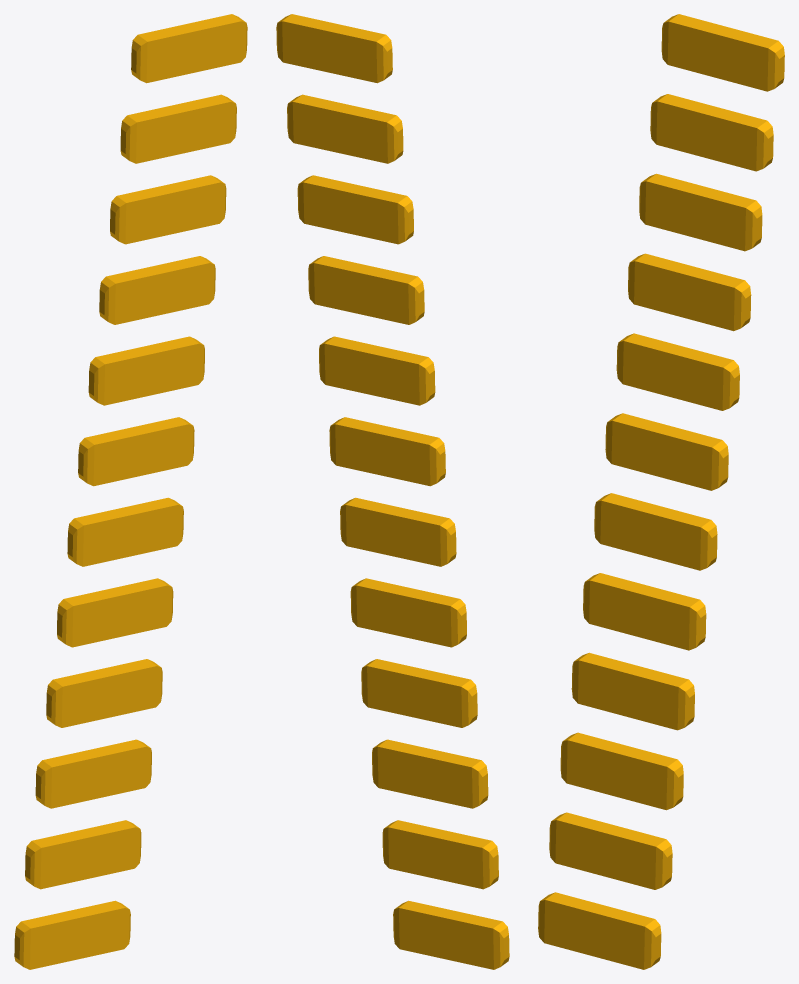
Rendered from svetla_2.obj.
The picture shows the model from 3 angles, left to right: view 1: azimuth 30°, elevation 25°; view 2: azimuth 150°, elevation 25°; view 3: azimuth 330°, elevation 25°; orthographic projection. The views are drawn at different scales.
Visible parts, largest first — view 1: Cube.045; view 2: Cube.045; view 3: Cube.045.
Boxes of the visible parts, x1,y1,x2,y2 form: Cube.045: (14, 14, 247, 969); Cube.045: (276, 14, 509, 969); Cube.045: (538, 14, 784, 969).
Size of the model in its own units: 1.32 by 4.98 by 0.098.
